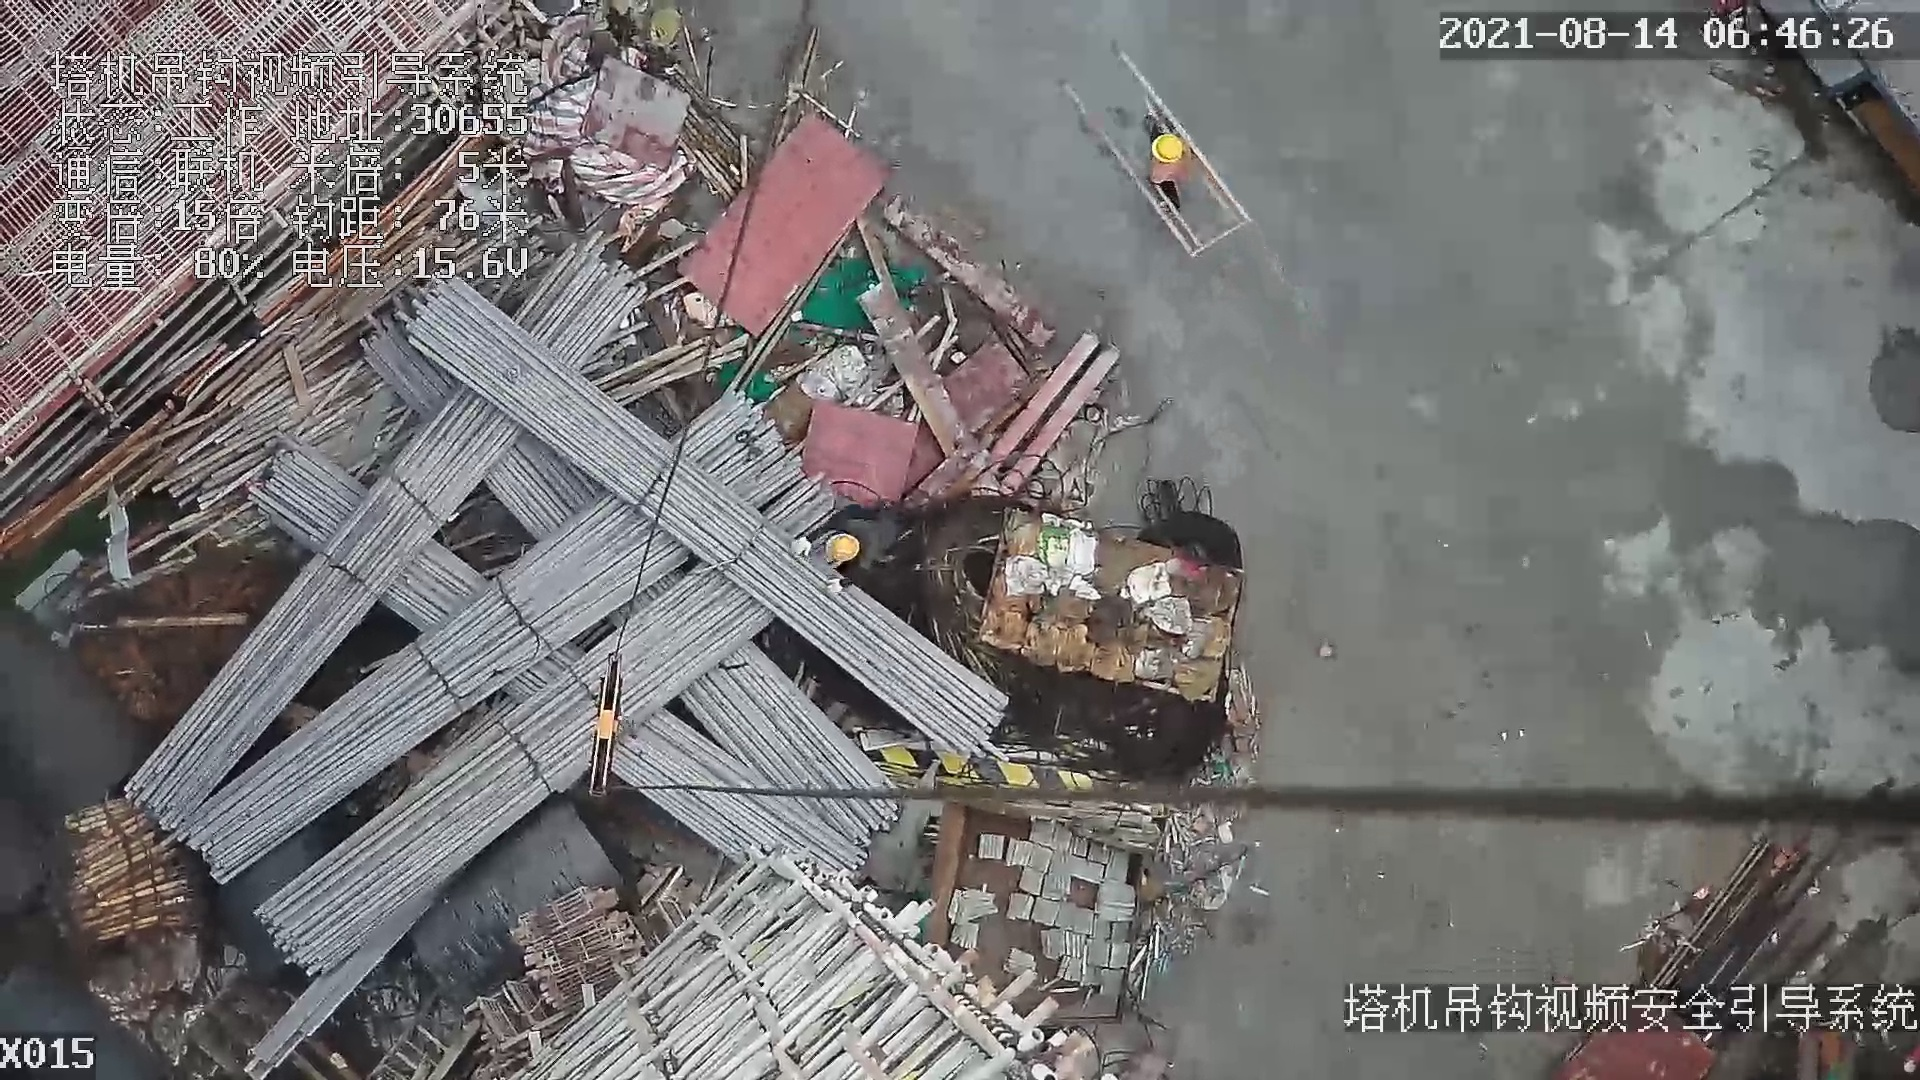board: (680, 113, 885, 324)
helmet: (823, 532, 867, 563), (1149, 137, 1185, 160)
hook: (588, 651, 628, 808)
person: (791, 510, 909, 591), (1138, 90, 1199, 236)
scaffold: (49, 801, 170, 932)
